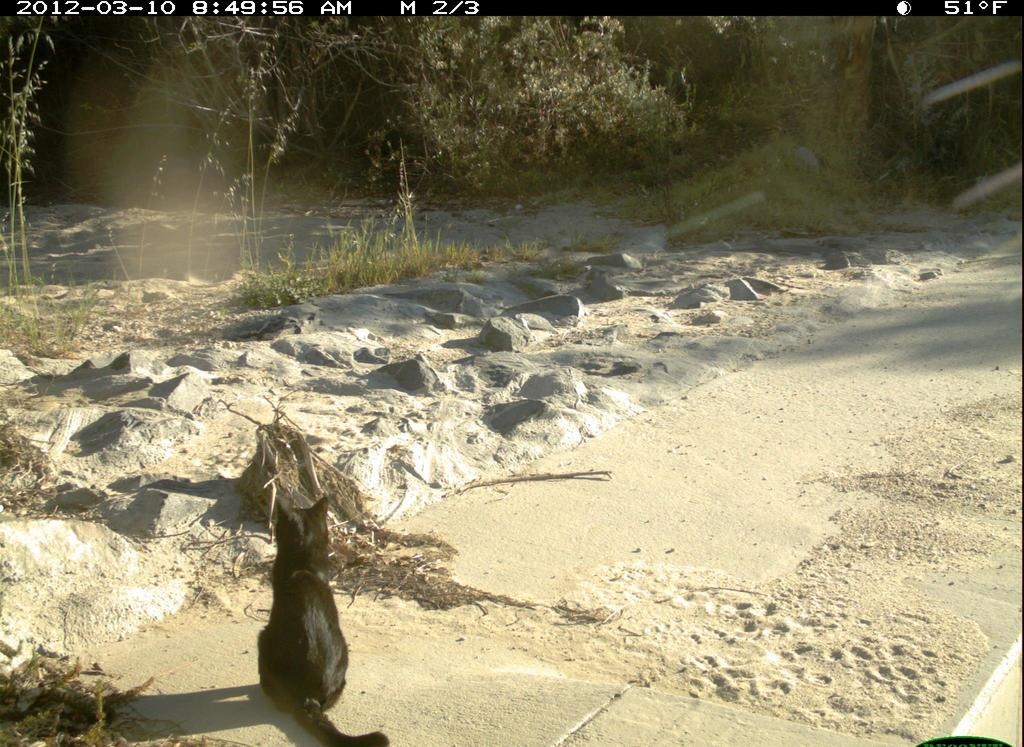cat: (251, 487, 395, 747)
